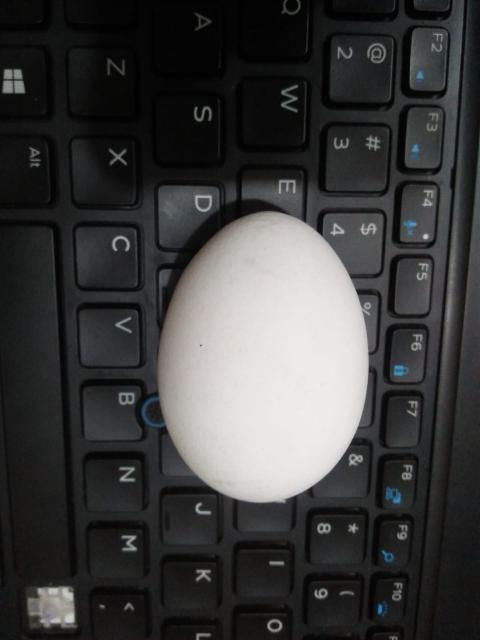Sano: (156, 211, 369, 506)
